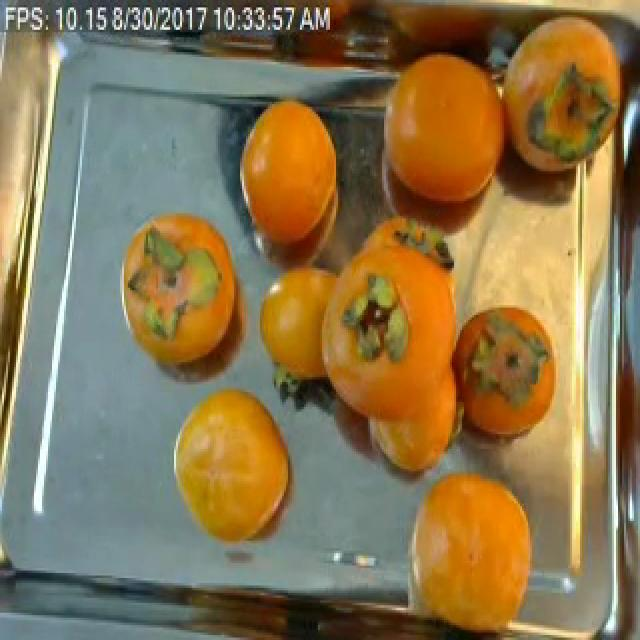Fruit: (388, 449, 542, 640), (160, 375, 306, 558), (112, 198, 244, 392), (222, 94, 346, 270)
